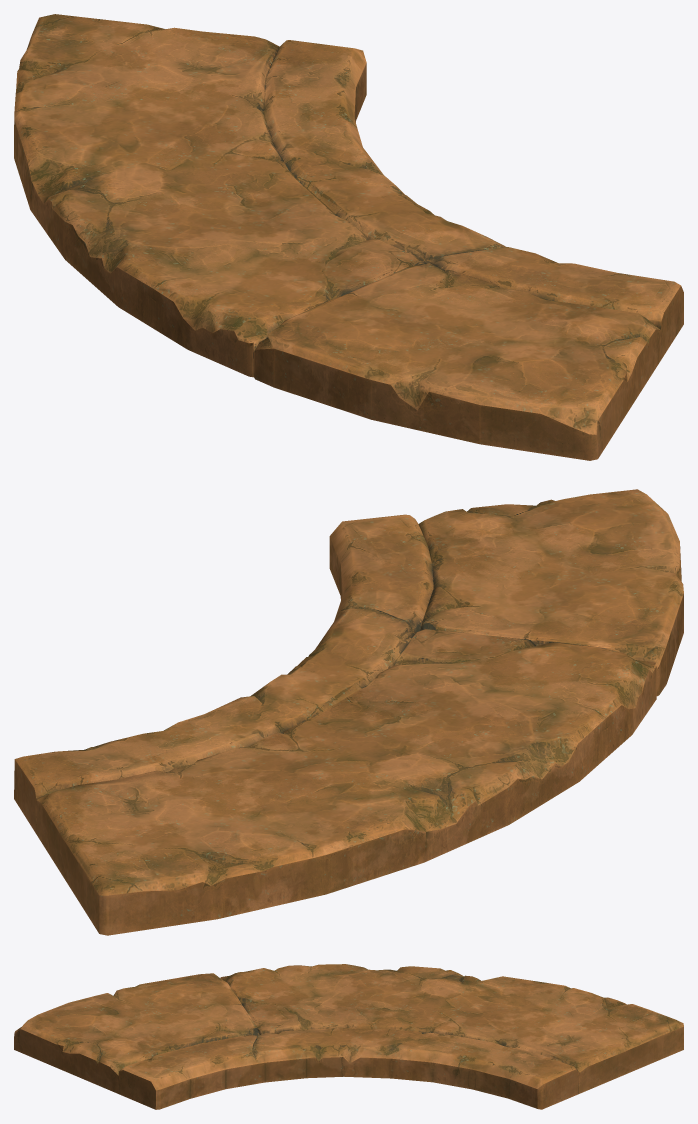
File: FloorCircular02.fbx
3 views of the same model, one above another, from view 1: azimuth 30°, elevation 25°; view 2: azimuth 150°, elevation 25°; view 3: azimuth 270°, elevation 25° (orthographic). The views are drawn at different scales.
Visible parts, largest first — view 1: FloorCircular02_LOD00; view 2: FloorCircular02_LOD00; view 3: FloorCircular02_LOD00.
Boxes of the visible parts, x1,y1,x2,y2 form: FloorCircular02_LOD00: [14, 14, 683, 460]; FloorCircular02_LOD00: [14, 489, 683, 935]; FloorCircular02_LOD00: [14, 964, 683, 1109].
Size of what is drawn, in the model's own units: 985 by 120 by 2315.
